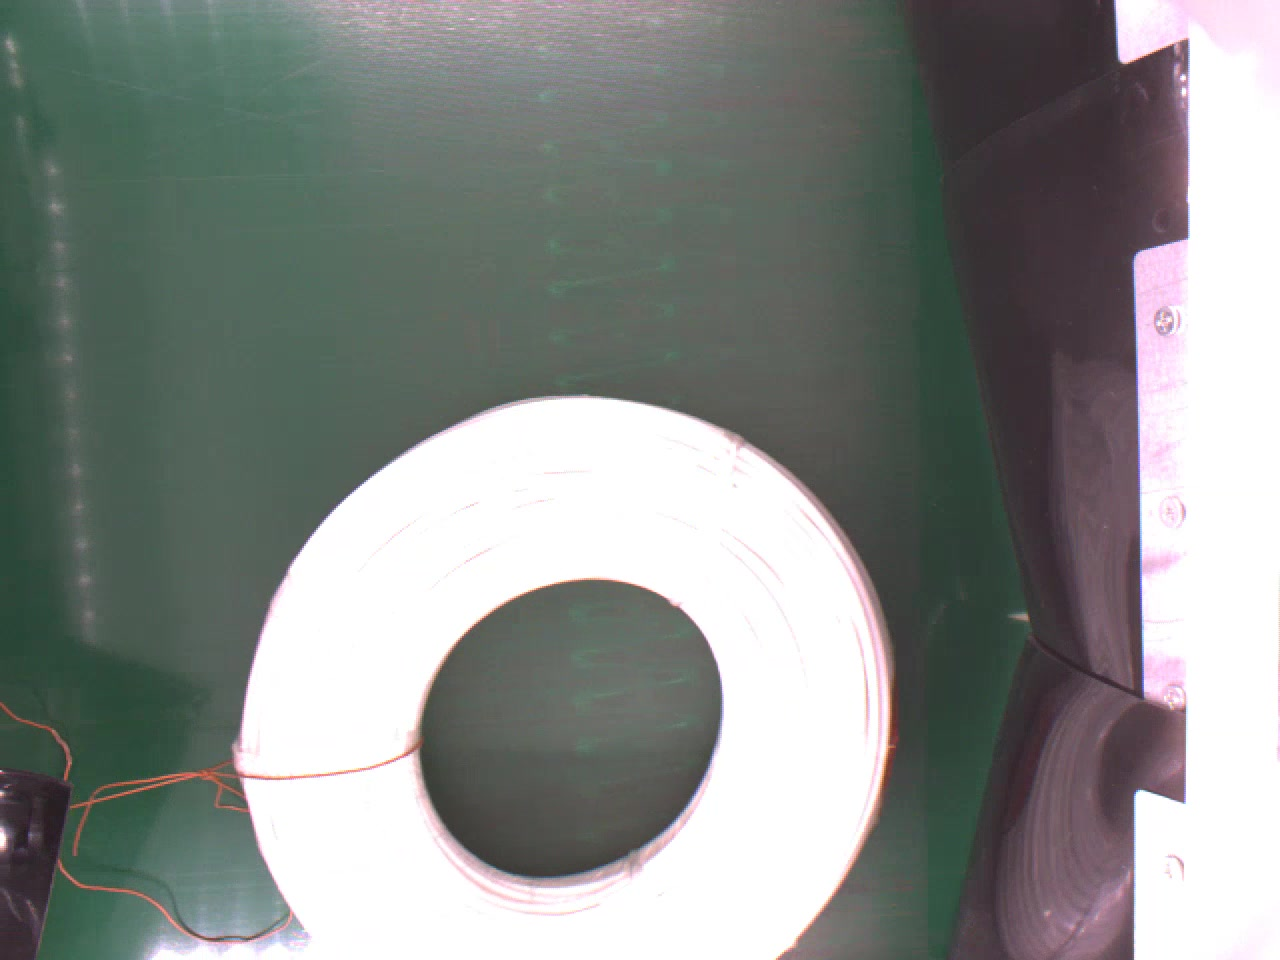white: (233, 394, 905, 959)
